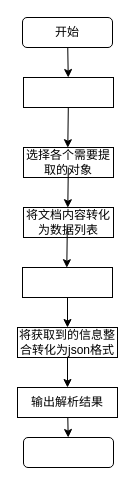
This 135x485 diagram has some shape labels left out. The box of each missing label's shape, as (x1, y1, x2, y2) in pixels:
根据关键词提取所需信息: (22, 266, 112, 298)
结束: (22, 436, 114, 468)
遍历参数获取文档内容: (22, 76, 114, 108)
